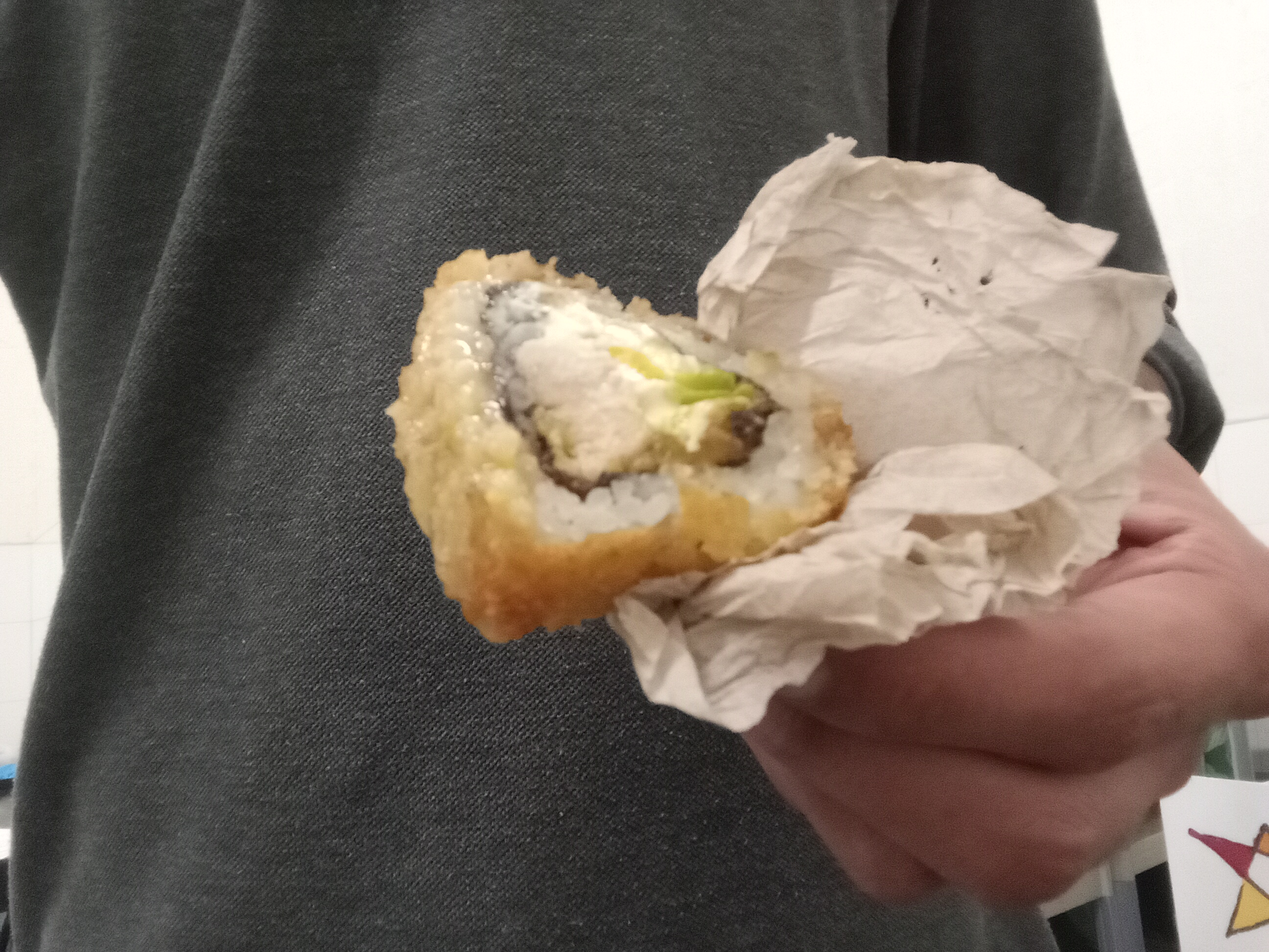Organico: (385, 247, 861, 647)
